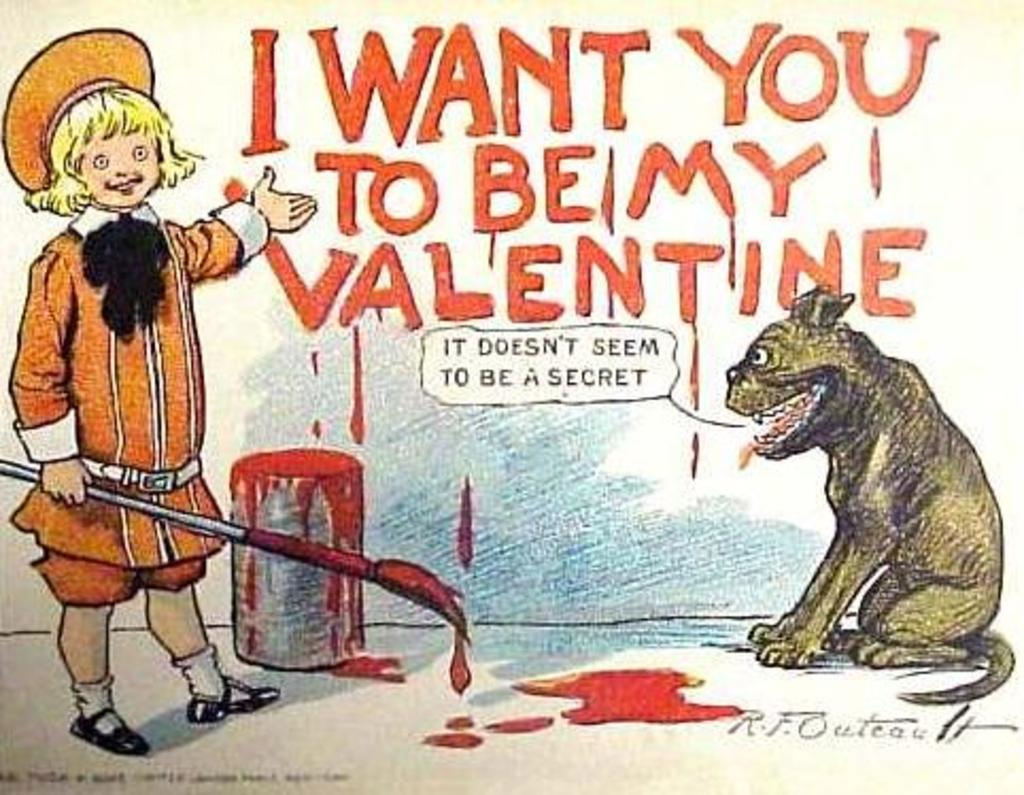Animal: (726, 288, 1017, 705)
